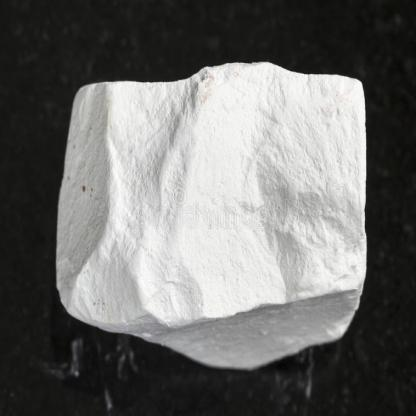Sedimentary_Limestone: (51, 60, 371, 385)
